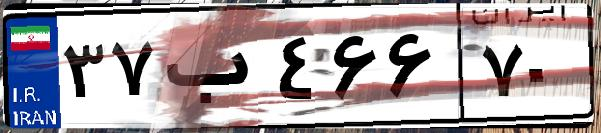0: (525, 38, 570, 115)
3: (57, 26, 110, 100)
4: (270, 28, 330, 110)
6: (385, 28, 445, 110), (330, 28, 385, 110)
7: (475, 38, 525, 113), (110, 28, 158, 98)
ب: (158, 20, 270, 120)
